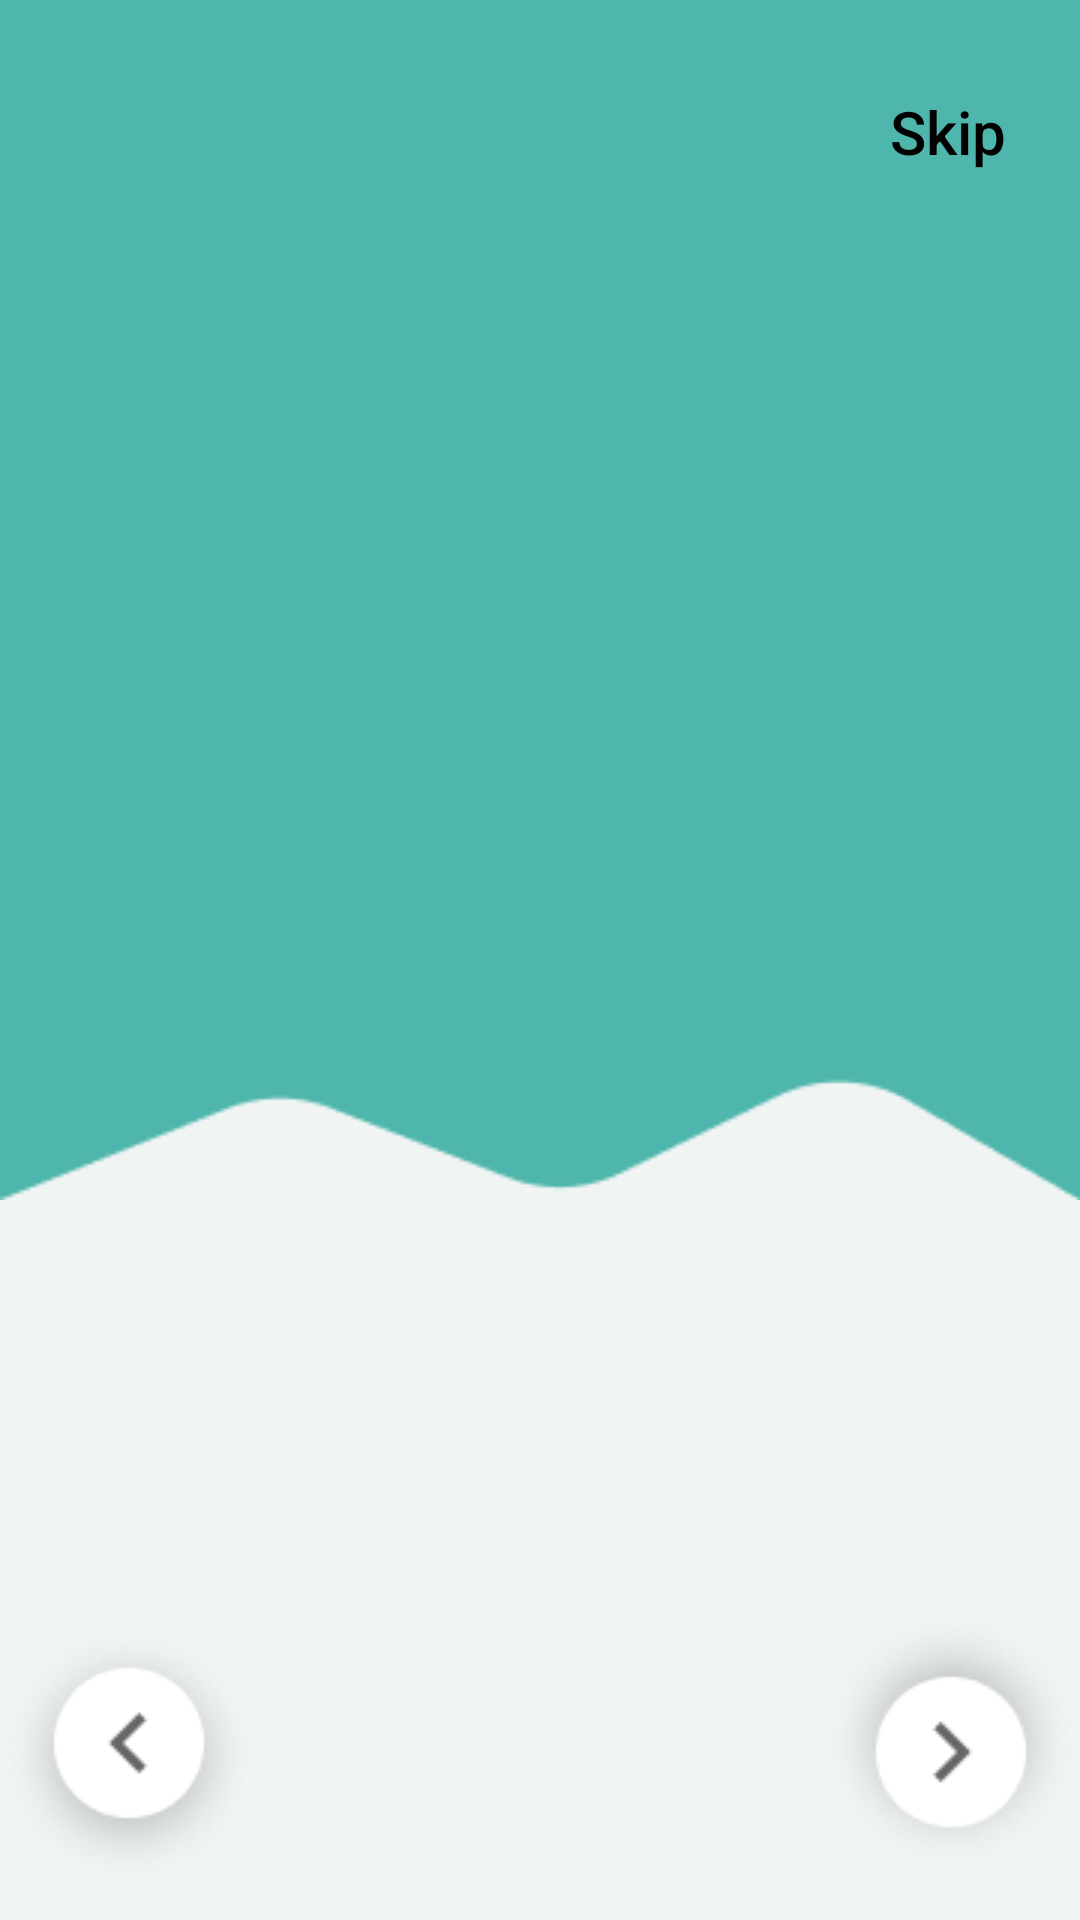

Icons on this 1080×1920 Android screen, each with the point to tap as point (x, y):
leftarrow: point (128, 1755)
rightarrow: point (950, 1740)
